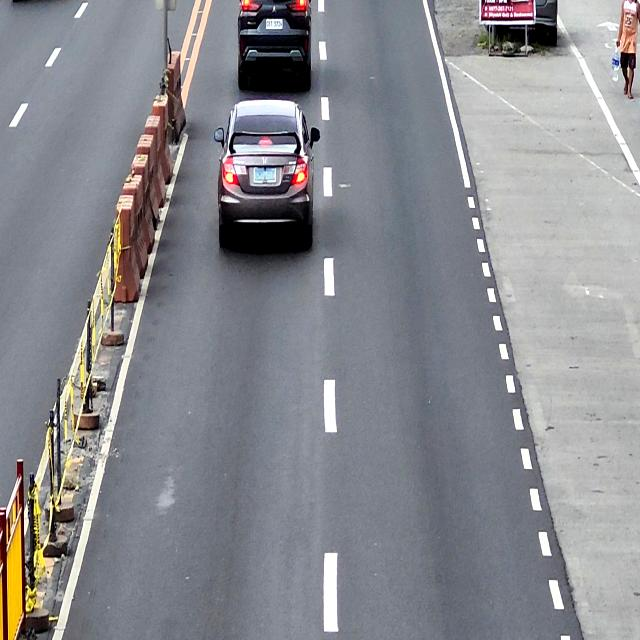Car: (214, 98, 321, 252), (237, 0, 312, 93)
License-Plate: (253, 167, 276, 185), (266, 18, 284, 30)
